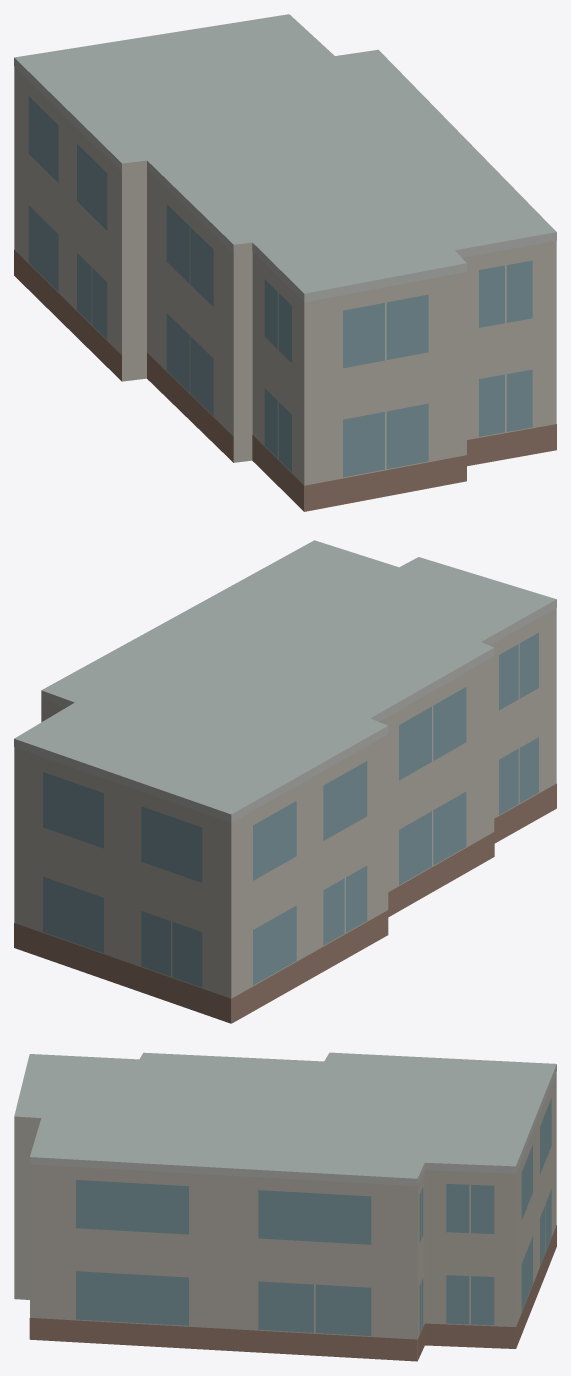
File: survey-upis-32922142.glb
3 views of the same model, one above another, from view 1: azimuth 30°, elevation 25°; view 2: azimuth 150°, elevation 25°; view 3: azimuth 270°, elevation 25° (orthographic). The views are drawn at different scales.
Visible parts, largest first — view 1: survey-upis-32922142.tmp; view 2: survey-upis-32922142.tmp; view 3: survey-upis-32922142.tmp.
Boxes of the visible parts, <box> form: survey-upis-32922142.tmp: <box>14,14,556,511</box>; survey-upis-32922142.tmp: <box>14,540,556,1023</box>; survey-upis-32922142.tmp: <box>14,1052,556,1361</box>.
Size of the model in its own units: 9.06 by 6.1 by 16.44.
